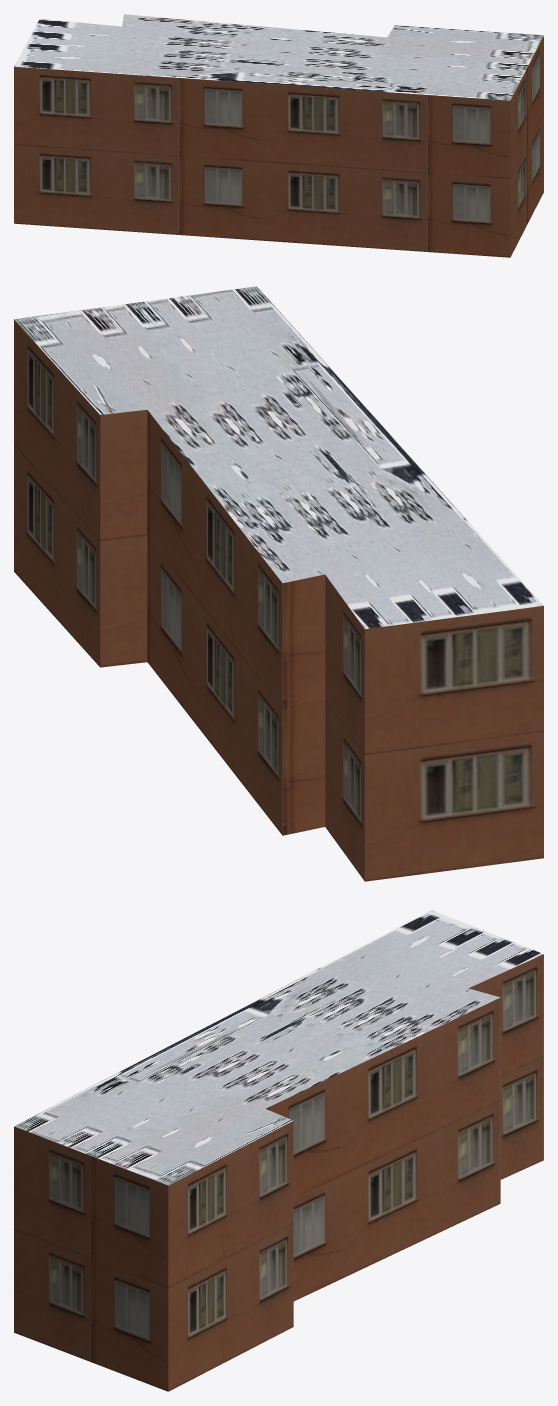
The model's file is ResTex__4949.fbx.
3 renders of one model, top to bottom at view 1: azimuth 30°, elevation 25°; view 2: azimuth 150°, elevation 25°; view 3: azimuth 270°, elevation 25°, orthographic. The views are drawn at different scales.
Visible parts, largest first — view 1: CityEngineMaterial_20_m, CityEngineMaterial_8_m; view 2: CityEngineMaterial_20_m, CityEngineMaterial_8_m; view 3: CityEngineMaterial_20_m, CityEngineMaterial_8_m.
Boxes of the visible parts, <box> form: CityEngineMaterial_20_m: <box>14,36,543,257</box>; CityEngineMaterial_8_m: <box>14,14,543,100</box>; CityEngineMaterial_20_m: <box>14,319,543,881</box>; CityEngineMaterial_8_m: <box>14,286,543,629</box>; CityEngineMaterial_20_m: <box>14,954,543,1391</box>; CityEngineMaterial_8_m: <box>14,910,543,1185</box>.
Bounding box in the file's own units: 17.19 × 6 × 13.98.
2 materials, 2 textured.
